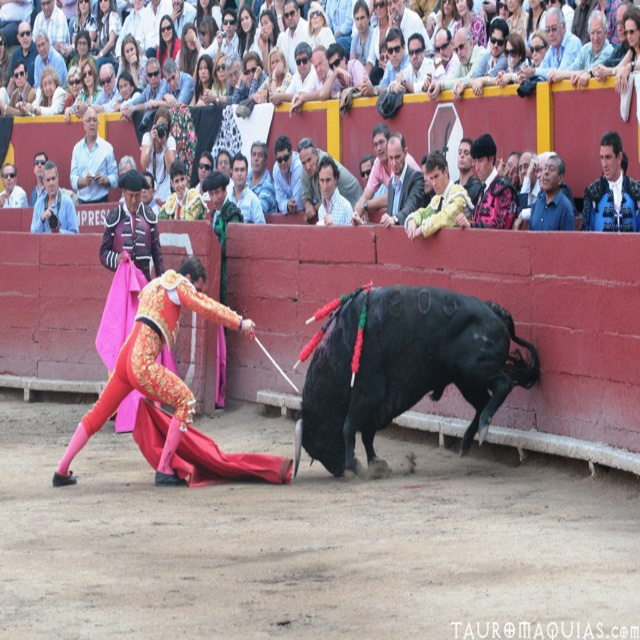Bull: (290, 279, 543, 484)
